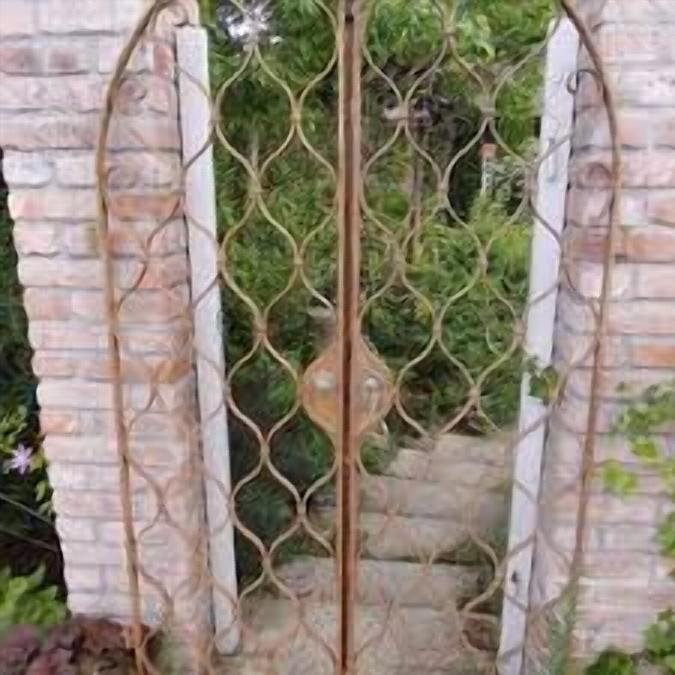Gate: (91, 0, 621, 675)
